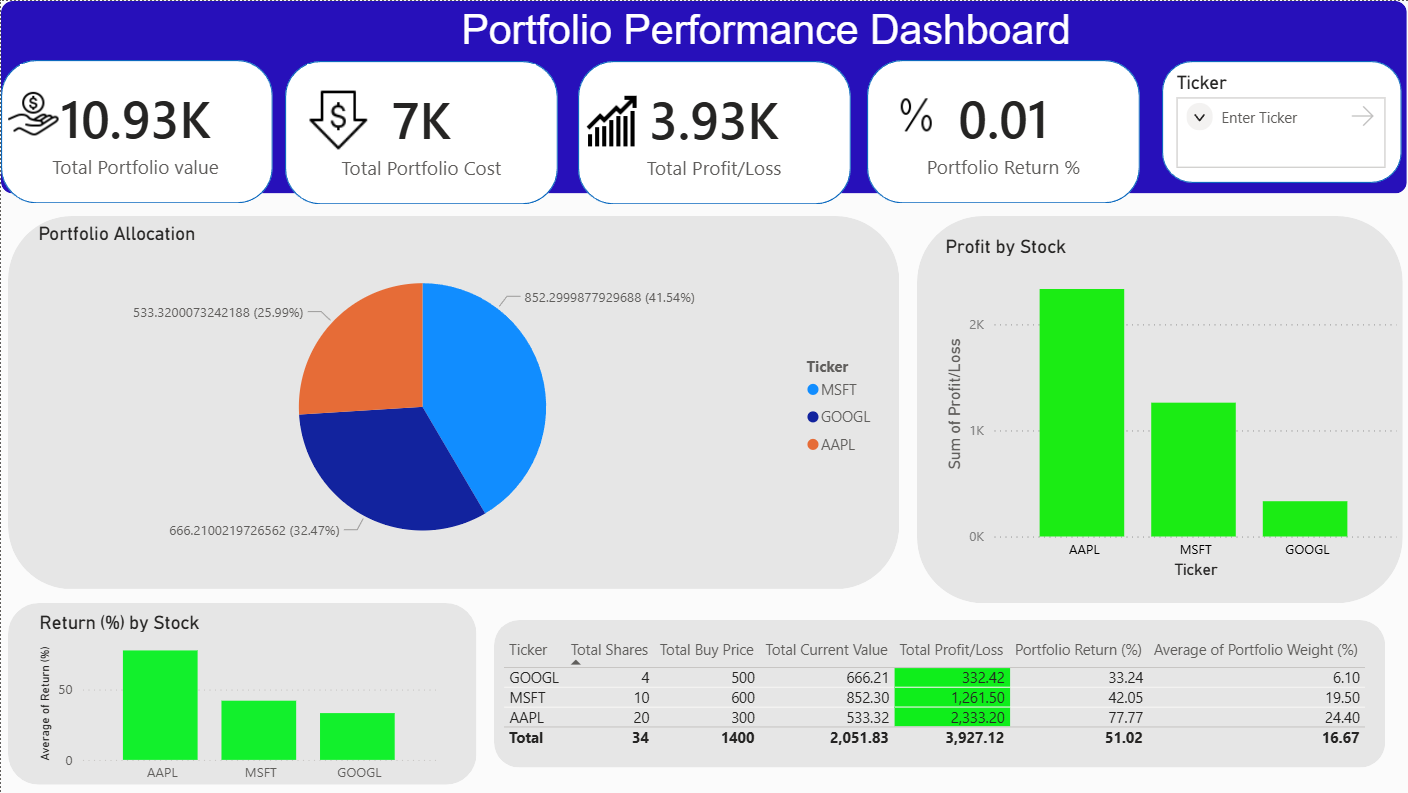

The dashboard page shown, as its layout file describes it:
{"tool":"powerbi","page":{"name":"Page 1","canvas":[1280,720],"ordinal":0},"visuals":[{"type":"shape","box":[832.6,195.5,441.6,352.1],"z":500},{"type":"shape","box":[448.4,563.2,810.2,134.2],"z":562},{"type":"shape","box":[6.8,547.6,426,165.3],"z":625},{"type":"shape","box":[6.8,195.5,810.2,339.5],"z":750},{"type":"shape","box":[0,0,1278.1,175.1],"z":1000},{"type":"shape","box":[1055.3,54.5,217.9,110.9],"z":1500},{"type":"shape","box":[786.9,53.5,248,130.3],"z":2000},{"type":"shape","box":[524.3,54.5,248,130.3],"z":3000},{"type":"shape","box":[257.8,54.5,248,130.3],"z":4000},{"type":"shape","box":[0,53.5,247.1,130.3],"z":5000},{"type":"cardVisual","fields":{"Data":["Portfolio Holdings.Total Portfolio value"]},"box":[17.5,57.4,210.1,121.6],"z":6000},{"type":"cardVisual","fields":{"Data":["Portfolio Holdings.Total Portfolio Cost"]},"box":[278.2,57.4,208.1,122.6],"z":7000},{"type":"cardVisual","fields":{"Data":["Sum(Holdings.Profit)"]},"box":[552.5,58.4,191.6,121.6],"z":8000},{"type":"cardVisual","fields":{"Data":["Portfolio Holdings.Portfolio Return %"]},"box":[806.3,57.4,210.1,121.6],"z":9000},{"type":"pieChart","title":"Portfolio Allocation","fields":{"Category":["Holdings.Ticker"],"Y":["Sum(Portfolio Holdings.Current Value)"]},"box":[29.2,201.3,775.2,317.1],"z":10000},{"type":"clusteredColumnChart","title":"Profit by Stock","fields":{"Category":["Holdings.Ticker"],"Y":["Sum(Holdings.Profit)"]},"box":[854,213,420.2,317.1],"z":11000},{"type":"tableEx","fields":{"Values":["Holdings.Ticker","Sum(Holdings.Shares)","Sum(Holdings.Buy)","Sum(Holdings.Current)","Sum(Holdings.Profit)","Avg(Holdings.Return %)","Avg(Holdings.Weight)"]},"box":[451.3,575.8,804.4,121.6],"z":12000},{"type":"columnChart","title":"Return (%) by Stock","fields":{"Category":["Holdings.Ticker"],"Y":["Avg(Holdings.Return %)"]},"box":[30.2,554.4,372.5,165.3],"z":13000},{"type":"textSlicer","fields":{"Values":["Holdings.Ticker"]},"box":[1064.1,63.2,200.4,93.4],"z":14000},{"type":"textbox","box":[325.8,0,740.2,53.5],"z":15000},{"type":"image","box":[6.8,71,45.7,63.2],"z":16000},{"type":"image","box":[278.2,77.8,57.4,60.3],"z":17000},{"type":"image","box":[532,77.8,45.7,62.2],"z":18000},{"type":"image","box":[804.4,79.8,55.4,46.7],"z":19000}]}

Visuals, with their boxes in screenshot pixels (x1, y1, x2, y2), scaled from the page's 1280x720 canvas onto the 1408x793 screenshot:
shape: <region>916, 215, 1402, 603</region>
shape: <region>493, 620, 1384, 768</region>
shape: <region>7, 603, 476, 785</region>
shape: <region>7, 215, 899, 589</region>
shape: <region>0, 0, 1406, 193</region>
shape: <region>1161, 60, 1401, 182</region>
shape: <region>866, 59, 1138, 202</region>
shape: <region>577, 60, 850, 204</region>
shape: <region>284, 60, 556, 204</region>
shape: <region>0, 59, 272, 202</region>
cardVisual - Portfolio Holdings.Total Portfolio value: <region>19, 63, 250, 197</region>
cardVisual - Portfolio Holdings.Total Portfolio Cost: <region>306, 63, 535, 198</region>
cardVisual - Sum(Holdings.Profit): <region>608, 64, 819, 198</region>
cardVisual - Portfolio Holdings.Portfolio Return %: <region>887, 63, 1118, 197</region>
"Portfolio Allocation" pieChart: <region>32, 222, 885, 571</region>
"Profit by Stock" clusteredColumnChart: <region>939, 235, 1402, 584</region>
tableEx - Holdings.Ticker x Sum(Holdings.Shares): <region>496, 634, 1381, 768</region>
"Return (%) by Stock" columnChart: <region>33, 611, 443, 792</region>
textSlicer - Holdings.Ticker: <region>1171, 70, 1391, 172</region>
textbox: <region>358, 0, 1173, 59</region>
image: <region>7, 78, 58, 148</region>
image: <region>306, 86, 369, 152</region>
image: <region>585, 86, 635, 154</region>
image: <region>885, 88, 946, 139</region>
